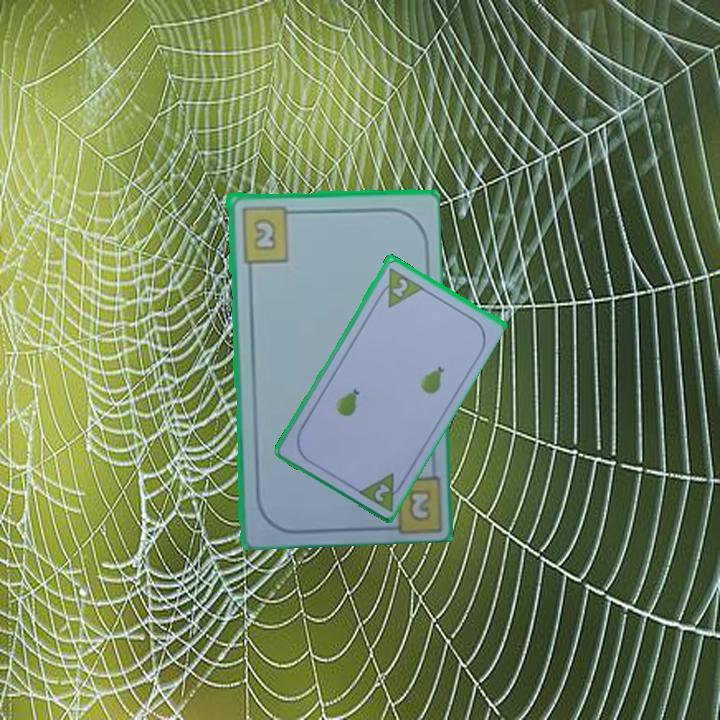2b: (238, 202, 299, 265), (404, 485, 434, 525)
2p: (353, 468, 408, 514), (373, 263, 425, 310)
